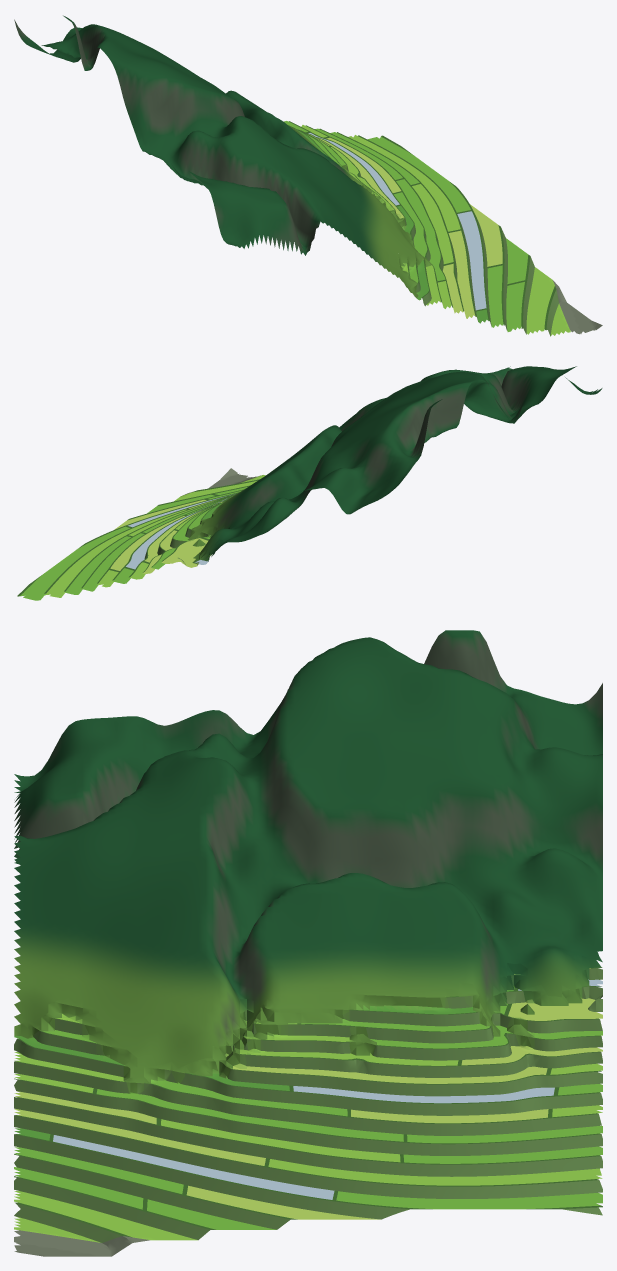
The model's file is payo_land_x0_y1.glb.
The picture shows the model from 3 angles, top to bottom: view 1: azimuth 30°, elevation 25°; view 2: azimuth 150°, elevation 25°; view 3: azimuth 270°, elevation 25°; orthographic projection. The views are drawn at different scales.
Visible parts, largest first — view 1: payo_land_x0_y1; view 2: payo_land_x0_y1; view 3: payo_land_x0_y1.
Boxes of the visible parts, x1,y1,x2,y2 form: payo_land_x0_y1: (14,15,602,336); payo_land_x0_y1: (17,366,602,600); payo_land_x0_y1: (14,630,602,1256).
Bounding box in the file's own units: 255 × 184 × 258.
